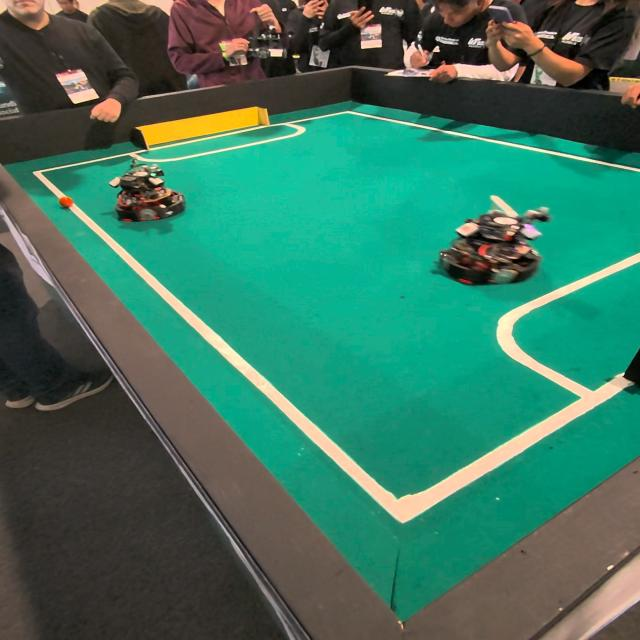Robot: (438, 192, 552, 293), (104, 162, 190, 225)
pelota: (60, 196, 74, 208)
